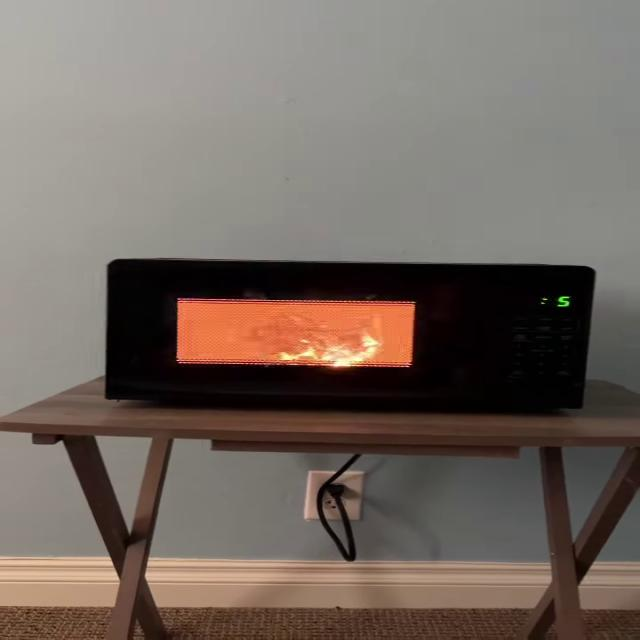fire: (166, 297, 428, 370)
